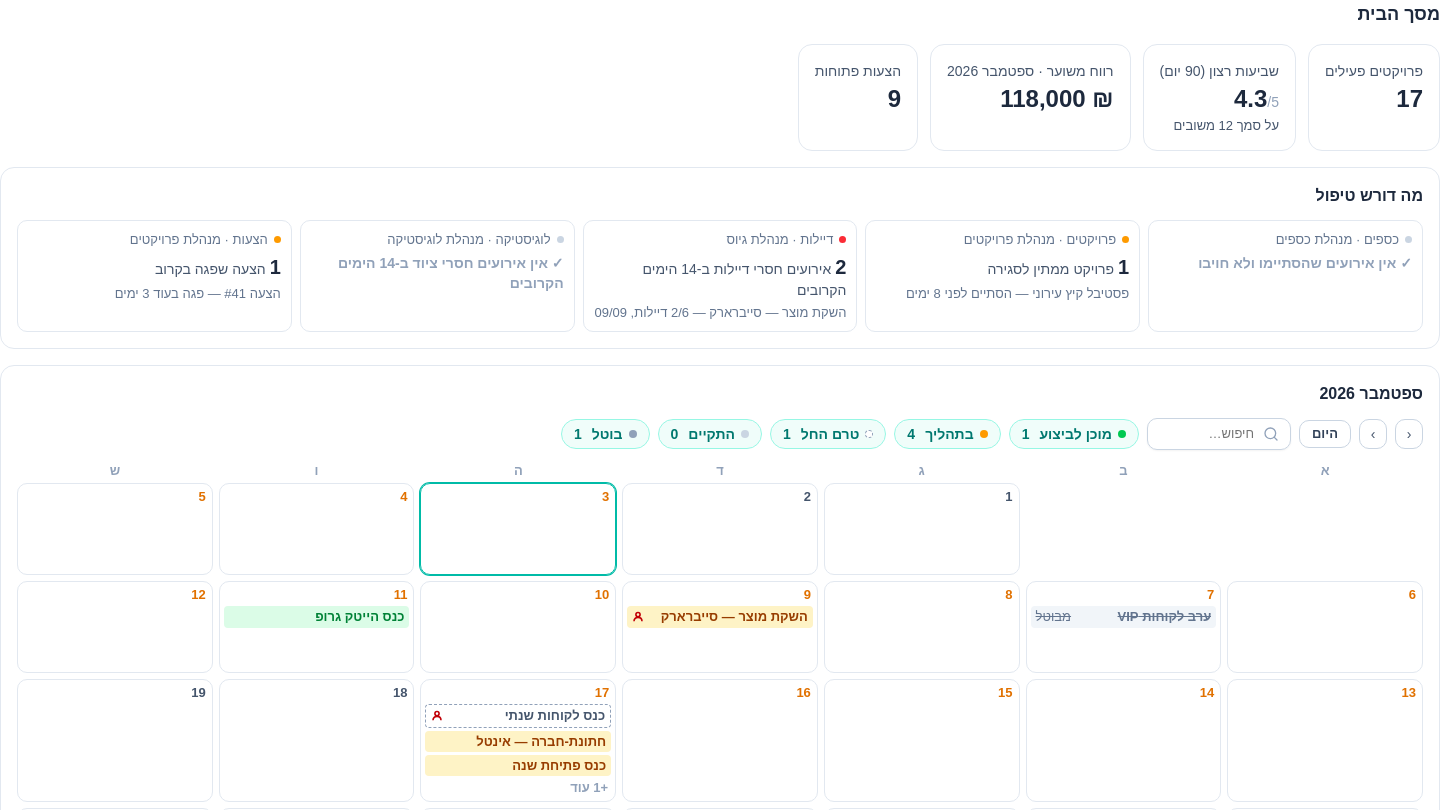
Test: DashboardPage — לוח החודש › יום עם ארבעה פרויקטים: "+1 עוד" מרחיב את התא במקום — ואינו קישור לשום מסך
Expected: the element with test id "kpi-active" is shown, x1=1308 y1=44 x2=1439 y2=151
What coordinates should you click on to do the following:
click the button with test id "dashboard-more-2026-09-17"
I would click on:
 (518, 788)
Its box is x1=425 y1=779 x2=611 y2=796.
(page scrolled)
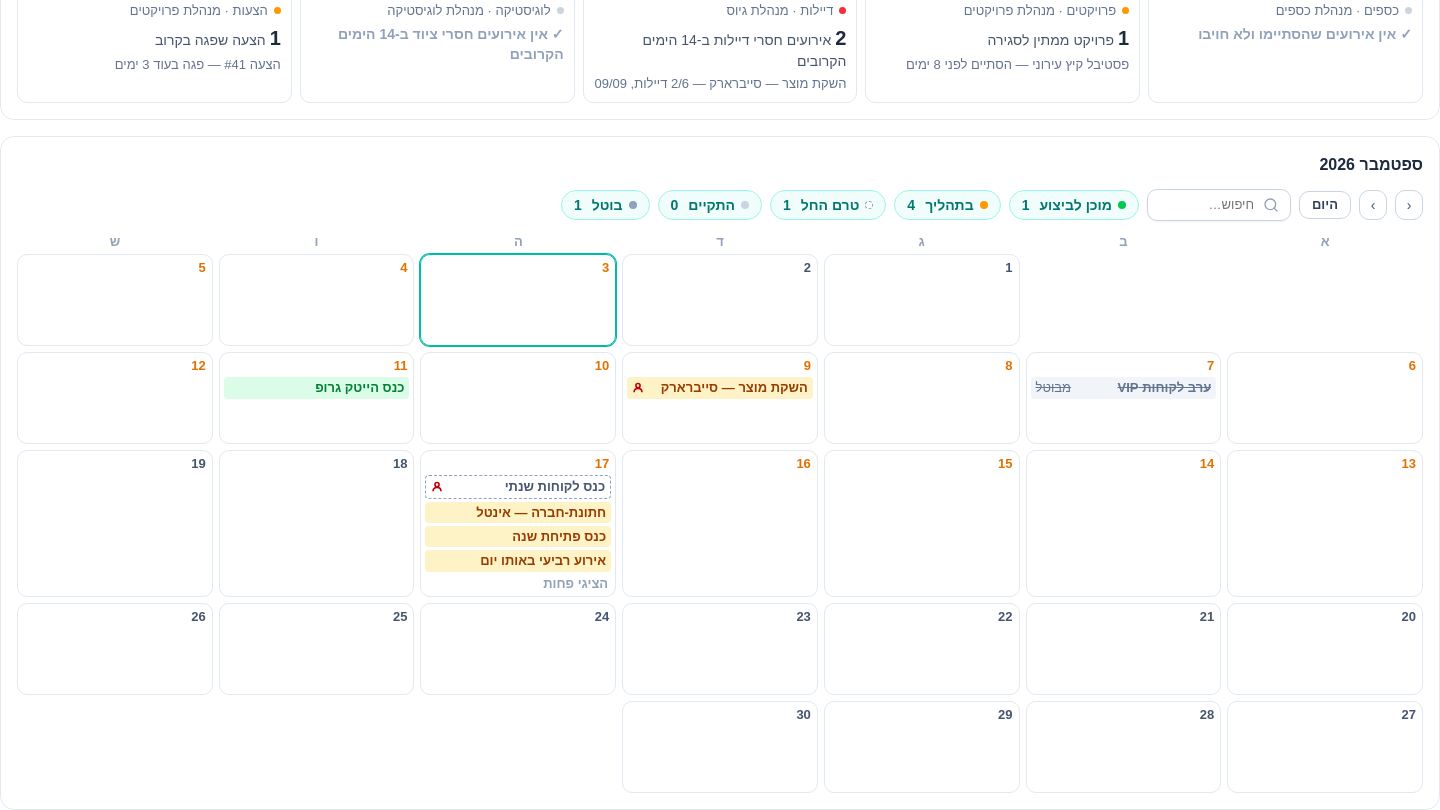
Expected: the link with test id "dashboard-chip-208" is shown, x1=425 y1=550 x2=611 y2=572
Expected: the button with test id "dashboard-more-2026-09-17" is gone
What coordinates should you click on to do the following:
click the button with test id "dashboard-less-2026-09-17"
I would click on:
 (518, 583)
Its box is x1=425 y1=574 x2=611 y2=592.
(page scrolled)
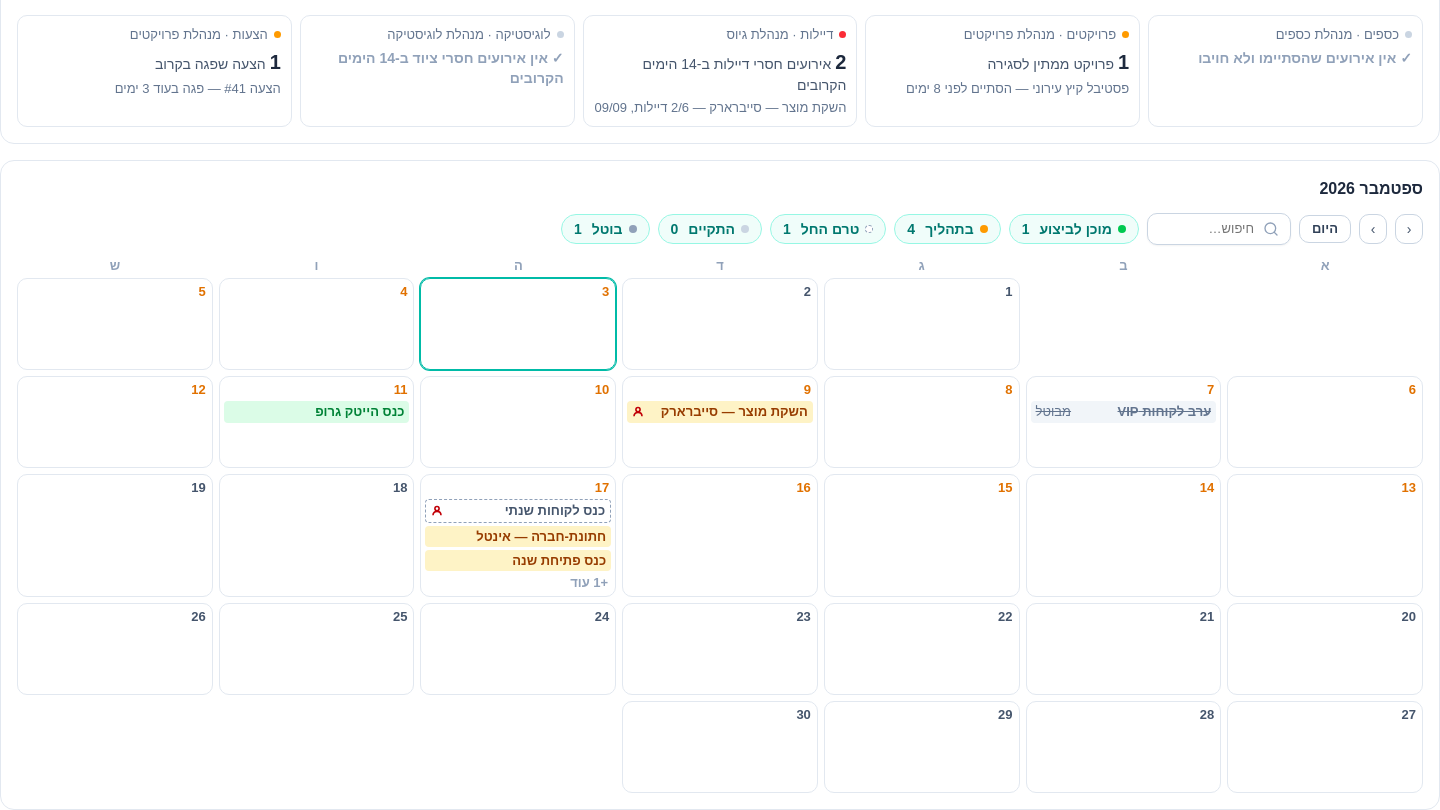
Expected: the link with test id "dashboard-chip-208" is gone
